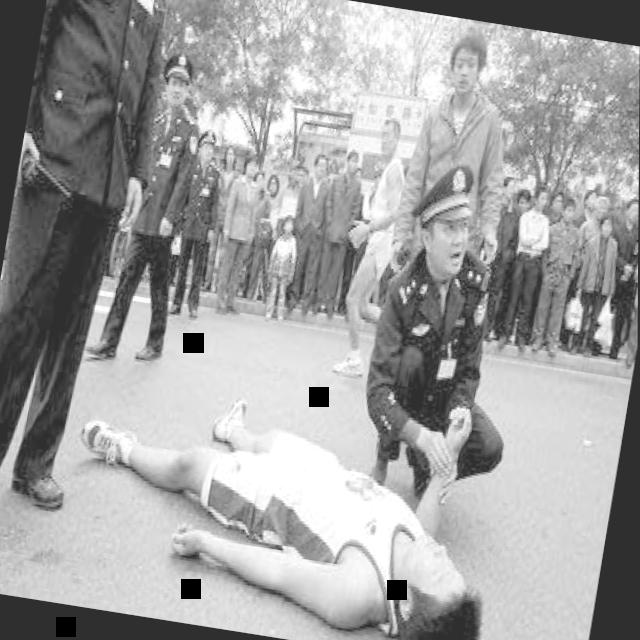Fall-Detected: (42, 351, 533, 640)
